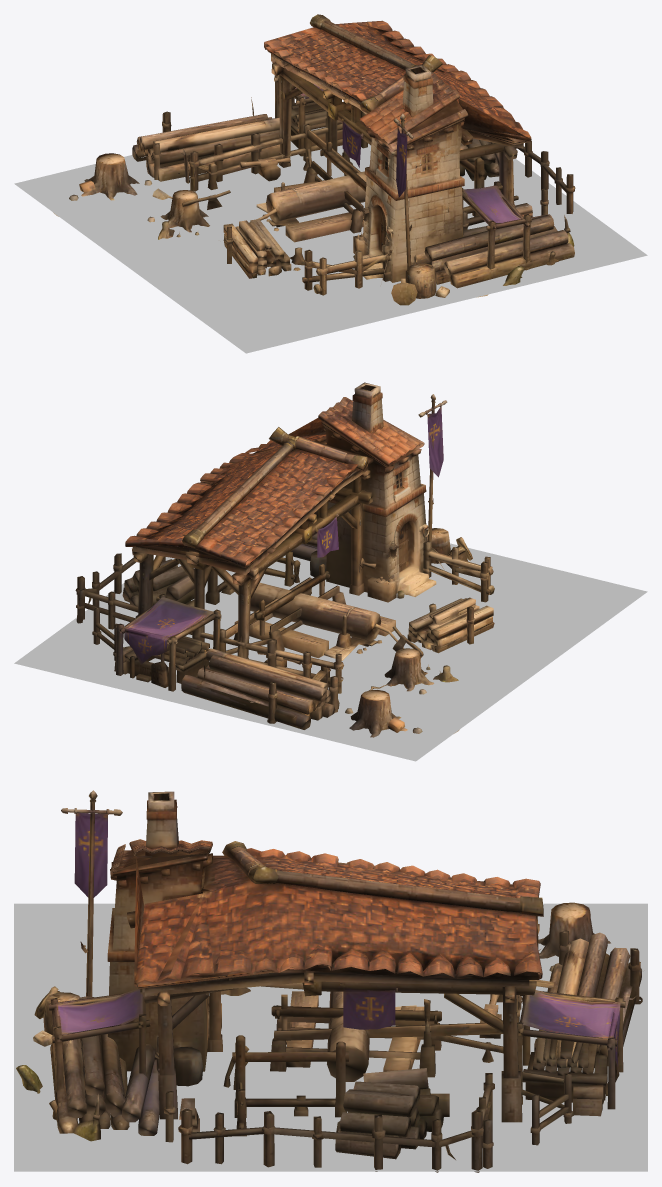
File: WorkshopGroundedReview.fbx
3 renders of one model, top to bottom at view 1: azimuth 30°, elevation 25°; view 2: azimuth 150°, elevation 25°; view 3: azimuth 270°, elevation 25°, orthographic. The views are drawn at different scales.
Parts seen in each view (by area): view 1: WorkshopGroundedReview_OriginalArchitecture, WorkshopGroundedReview_FeatherGround; view 2: WorkshopGroundedReview_OriginalArchitecture, WorkshopGroundedReview_FeatherGround; view 3: WorkshopGroundedReview_OriginalArchitecture, WorkshopGroundedReview_FeatherGround.
Boxes of the visible parts, x1,y1,x2,y2 form: WorkshopGroundedReview_OriginalArchitecture: (53,14,575,305); WorkshopGroundedReview_FeatherGround: (14,127,647,353); WorkshopGroundedReview_OriginalArchitecture: (75,382,494,737); WorkshopGroundedReview_FeatherGround: (14,543,647,761); WorkshopGroundedReview_OriginalArchitecture: (16,790,642,1172); WorkshopGroundedReview_FeatherGround: (14,903,647,1171).
Bounding box in the file's own units: 8 × 3.66 × 8.
